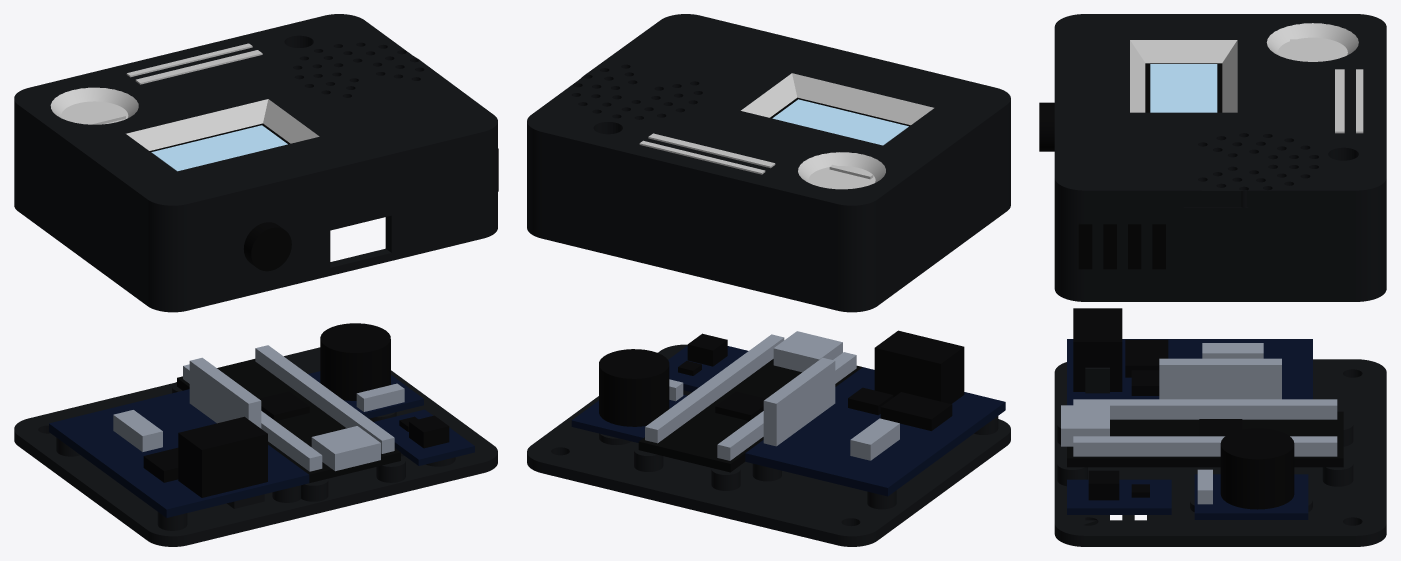
The model's file is enclosure-layout.obj.
The picture shows the model from 3 angles, left to right: view 1: azimuth 30°, elevation 25°; view 2: azimuth 150°, elevation 25°; view 3: azimuth 270°, elevation 25°; orthographic projection. The views are drawn at different scales.
Visible parts, largest first — view 1: lid, shell_rear_panel, shell_walls, base_plate, can_pcb, can_terminal, buzzer_body, display_bezel, nano_pcb, nano_header_r, can_header, oled_pixels (+15 smaller); view 2: lid, shell_walls, base_plate, can_pcb, can_terminal, nano_pcb, buzzer_body, display_bezel, can_header, nano_header_r, oled_pixels, can_mcp2515 (+13 smaller); view 3: lid, shell_walls, base_plate, nano_pcb, buzzer_body, can_header, nano_header_l, can_pcb, display_bezel, nano_header_r, can_terminal, oled_pixels (+22 smaller).
Part boxes in pixels (bbox=[...]): lid: bbox=[14, 14, 497, 221]; shell_rear_panel: bbox=[203, 151, 467, 306]; shell_walls: bbox=[14, 116, 497, 312]; base_plate: bbox=[14, 347, 497, 546]; can_pcb: bbox=[49, 389, 309, 517]; can_terminal: bbox=[178, 416, 267, 497]; buzzer_body: bbox=[320, 323, 390, 400]; display_bezel: bbox=[126, 99, 319, 150]; nano_pcb: bbox=[177, 359, 400, 482]; nano_header_r: bbox=[255, 345, 394, 453]; can_header: bbox=[189, 357, 261, 428]; oled_pixels: bbox=[151, 125, 287, 171]; lid: bbox=[527, 14, 1010, 221]; shell_walls: bbox=[527, 115, 1010, 312]; base_plate: bbox=[527, 344, 1010, 546]; can_pcb: bbox=[745, 367, 1005, 496]; can_terminal: bbox=[874, 330, 964, 403]; nano_pcb: bbox=[638, 359, 862, 472]; buzzer_body: bbox=[599, 349, 669, 426]; display_bezel: bbox=[741, 73, 933, 125]; can_header: bbox=[763, 357, 835, 446]; nano_header_r: bbox=[645, 334, 784, 443]; oled_pixels: bbox=[772, 99, 908, 145]; can_mcp2515: bbox=[880, 392, 952, 430]; lid: bbox=[1054, 14, 1386, 207]; shell_walls: bbox=[1054, 195, 1386, 301]; base_plate: bbox=[1054, 359, 1386, 546]; nano_pcb: bbox=[1067, 411, 1343, 467]; buzzer_body: bbox=[1220, 428, 1294, 509]; can_header: bbox=[1159, 358, 1281, 399]; nano_header_l: bbox=[1073, 399, 1337, 419]; can_pcb: bbox=[1067, 339, 1312, 405]; display_bezel: bbox=[1130, 40, 1237, 112]; nano_header_r: bbox=[1073, 436, 1337, 456]; can_terminal: bbox=[1073, 308, 1122, 391]; oled_pixels: bbox=[1150, 64, 1217, 112].
Bounding box in the file's own units: 0.0683 × 0.0643 × 0.0565.
